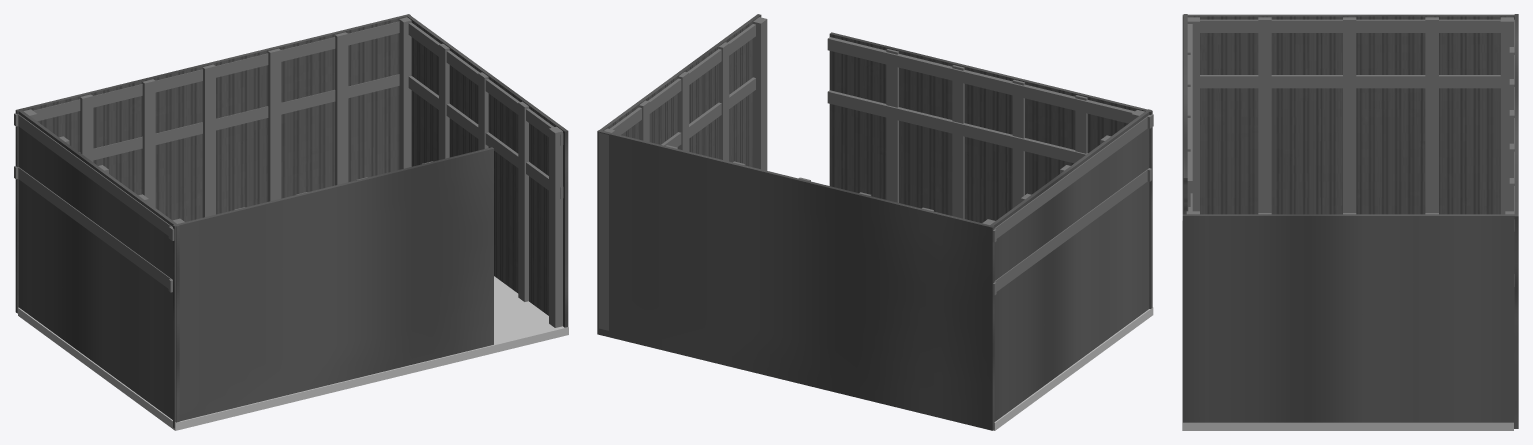
3 renders of one model, left to right at view 1: azimuth 30°, elevation 25°; view 2: azimuth 150°, elevation 25°; view 3: azimuth 270°, elevation 25°, orthographic. The views are drawn at different scales.
Visible parts, largest first — view 1: pCube66; view 2: pCube66; view 3: pCube66.
Boxes of the visible parts, x1=… form: pCube66: x1=14, y1=14, x2=568, y2=430; pCube66: x1=597, y1=14, x2=1153, y2=430; pCube66: x1=1182, y1=14, x2=1518, y2=430.
Size of the model in its own units: 2525 by 1245 by 1769.
